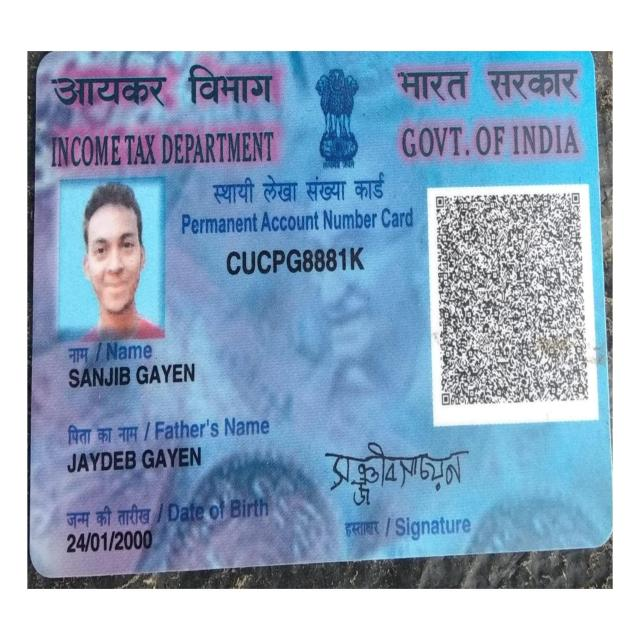pan_card: (38, 56, 600, 558)
